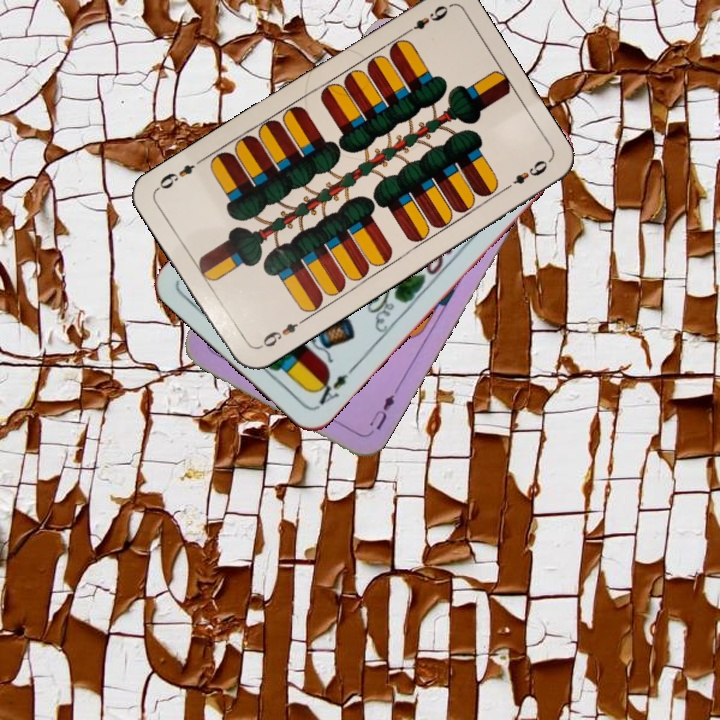E9: (399, 1, 451, 39), (254, 315, 307, 352)
EA: (309, 362, 357, 411)
EU: (363, 385, 399, 438)
